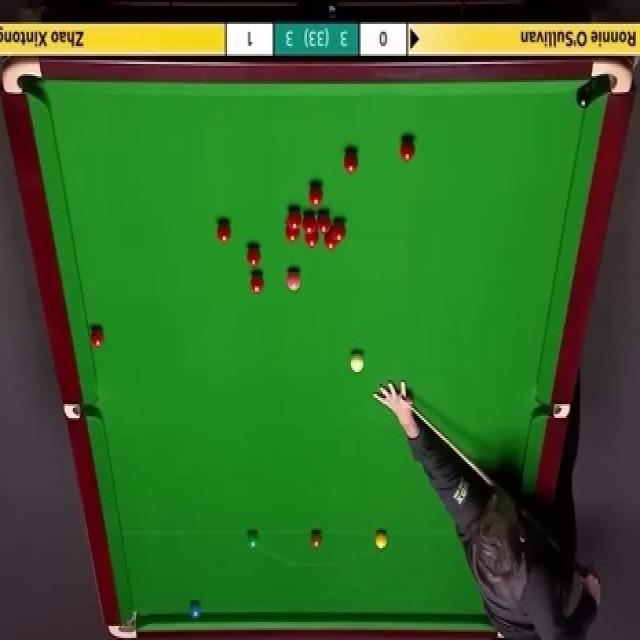pocket: (2, 57, 42, 96), (590, 61, 634, 96), (107, 608, 138, 638), (536, 400, 570, 419), (64, 399, 98, 418)
